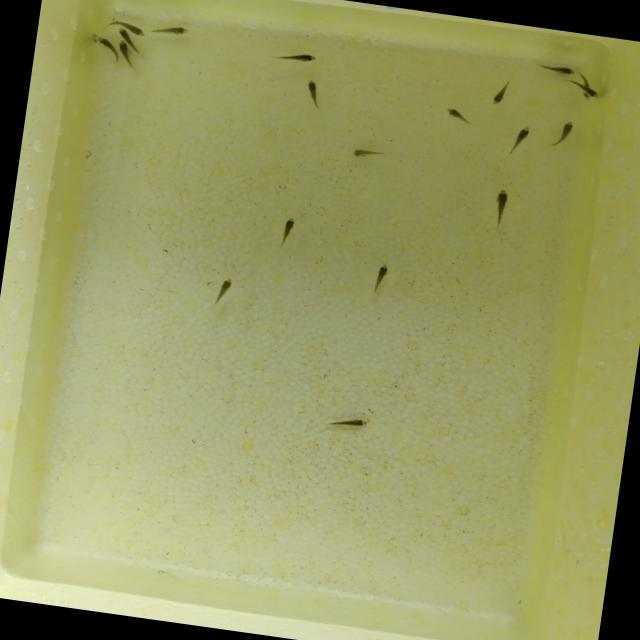fingerling: (265, 42, 328, 72), (486, 182, 520, 234), (270, 210, 306, 258), (362, 256, 398, 302), (340, 137, 393, 168), (326, 408, 376, 440), (206, 268, 240, 314), (546, 112, 580, 154), (501, 120, 539, 157), (484, 74, 520, 110), (436, 103, 483, 130), (296, 75, 326, 113), (529, 58, 578, 80), (560, 80, 606, 100), (155, 22, 192, 40), (91, 35, 118, 52), (116, 39, 132, 58), (131, 24, 149, 40), (116, 27, 130, 39)
